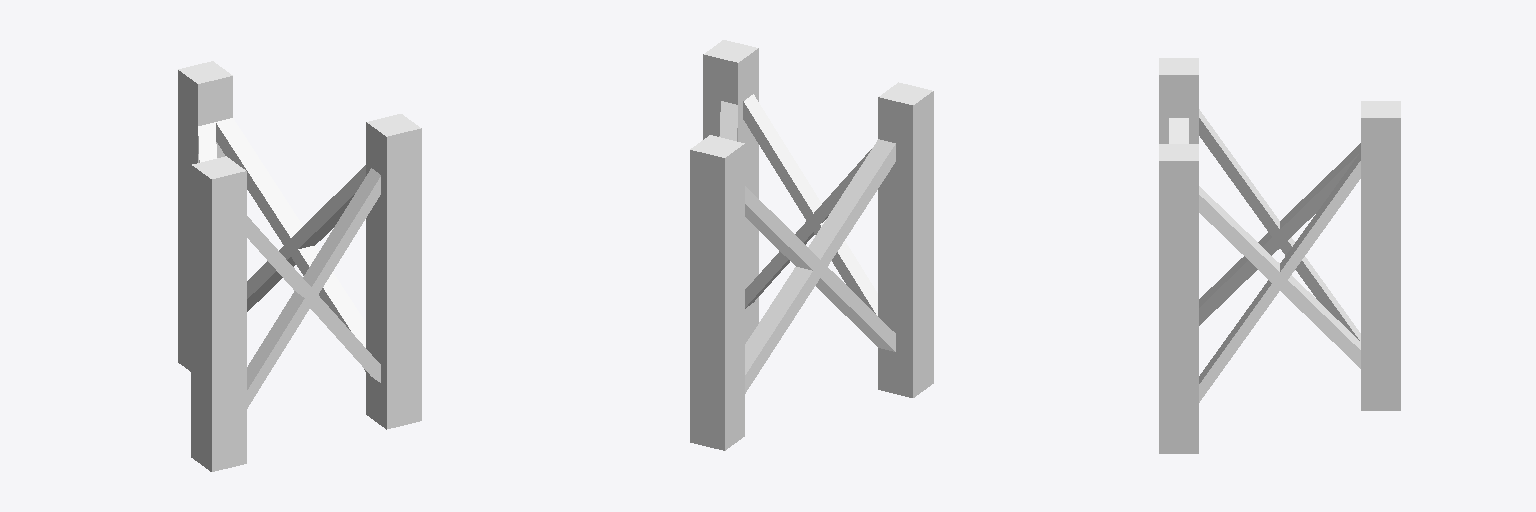
File: steel_poles.obj
3 renders of one model, left to right at view 1: azimuth 30°, elevation 25°; view 2: azimuth 150°, elevation 25°; view 3: azimuth 270°, elevation 25°, orthographic.
Visible parts, largest first — view 1: steel_poles; view 2: steel_poles; view 3: steel_poles.
Part boxes in pixels (x1,y1,x2,y2): steel_poles: (178, 61, 421, 471); steel_poles: (690, 40, 933, 450); steel_poles: (1159, 58, 1400, 453).
Size of the model in its own units: 0.75 by 1 by 0.75.